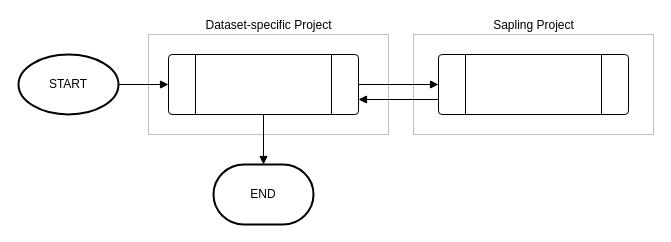
Image size: 671x242. Some labels were removed from this diagram. Here are the shapes that lost their labels. From the top down, the centre of each, then its label:
the point at 263,84: ancestry2sapling
the point at 533,84: text2sapling
